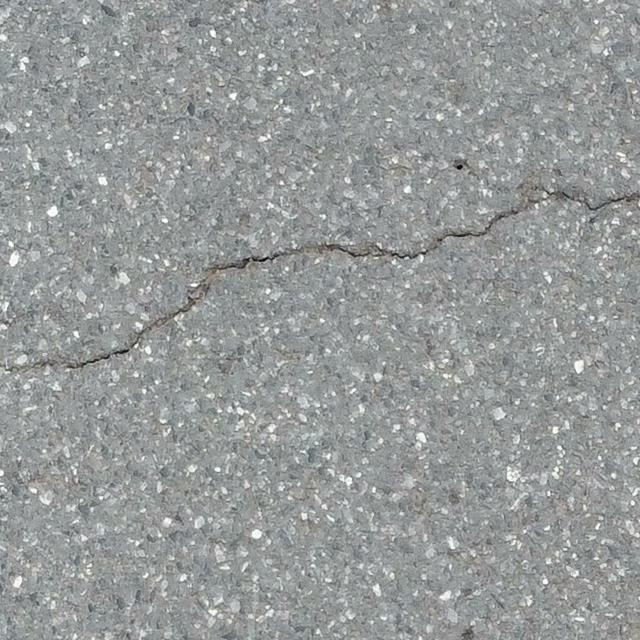TransverseCrack: (4, 189, 640, 371)
